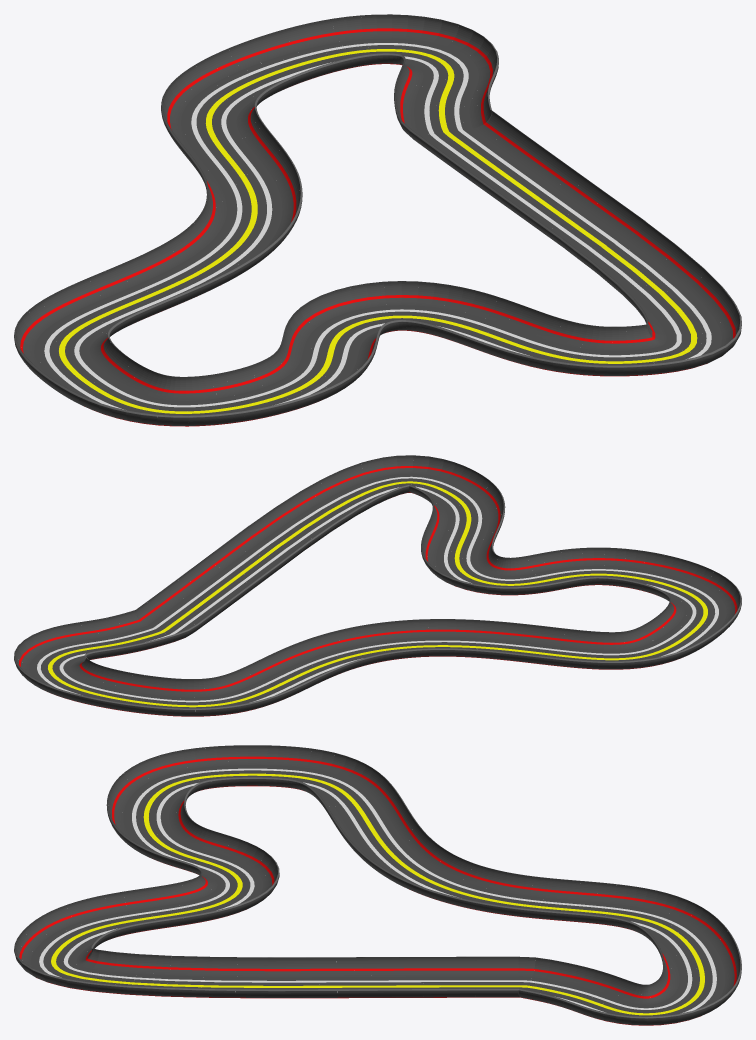
Rendered from Track #5.fbx.
3 views of the same model, one above another, from view 1: azimuth 30°, elevation 25°; view 2: azimuth 150°, elevation 25°; view 3: azimuth 270°, elevation 25° (orthographic). The views are drawn at different scales.
Visible parts, largest first — view 1: Plane; view 2: Plane; view 3: Plane.
Boxes of the visible parts, x1,y1,x2,y2 form: Plane: (14, 14, 741, 426); Plane: (14, 455, 741, 716); Plane: (14, 745, 741, 1025).
Bounding box in the file's own units: 2813 × 65.08 × 3171.
